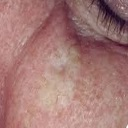Carcinoma: (61, 24, 111, 100)
